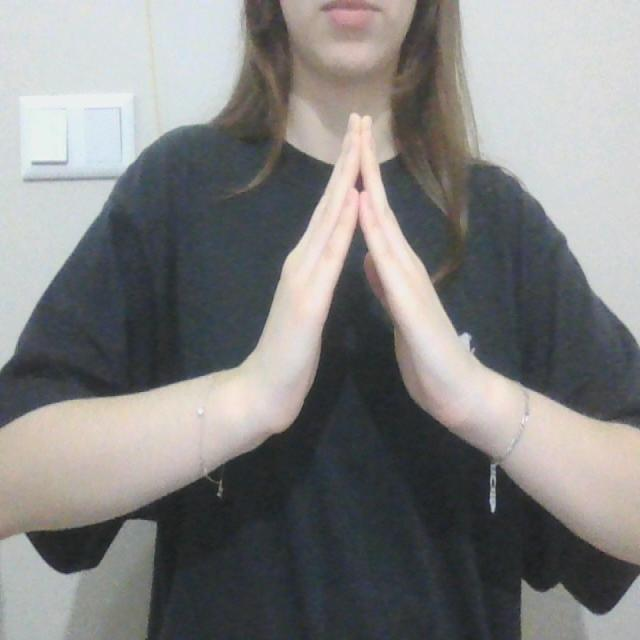Ev: (249, 107, 485, 451)
